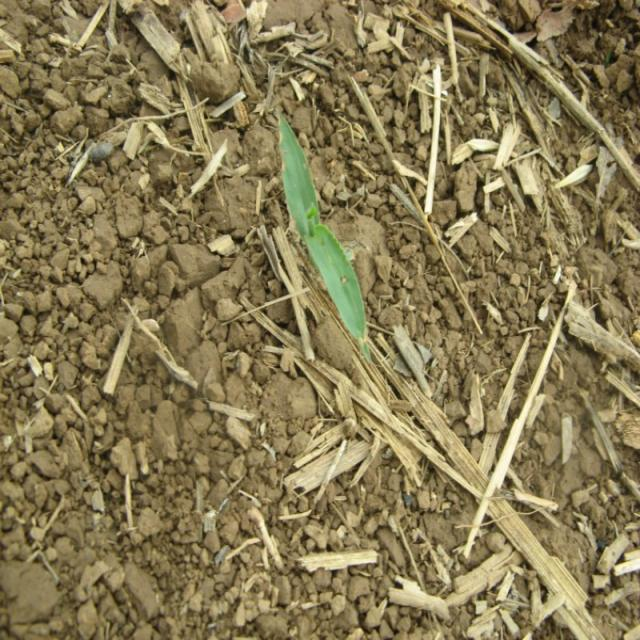bg: (271, 111, 374, 348)
